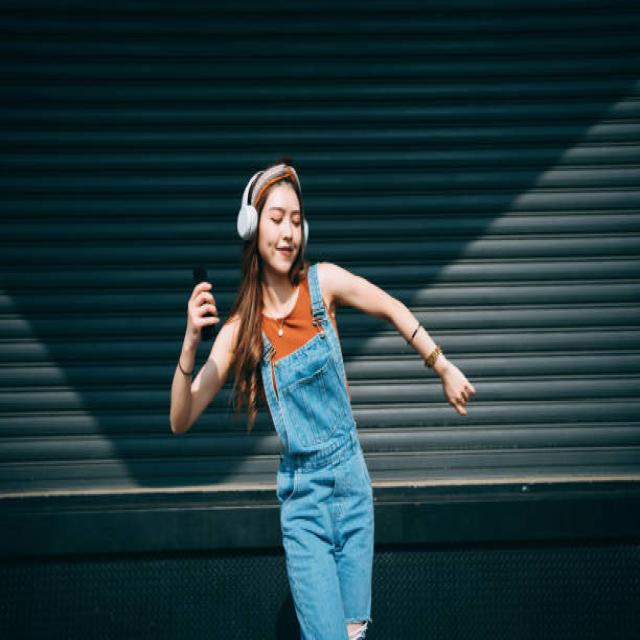Headphone: (237, 169, 309, 251)
